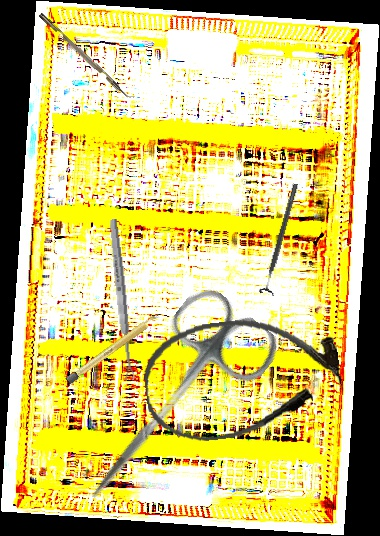Cannula: (138, 308, 347, 448)
Chopper: (38, 8, 137, 103)
Fixation Ring: (257, 181, 305, 297)
Iris Scissors: (55, 279, 286, 533)
Scalpel Handle: (64, 311, 163, 386)
Surgical Spoon: (107, 218, 136, 382)
